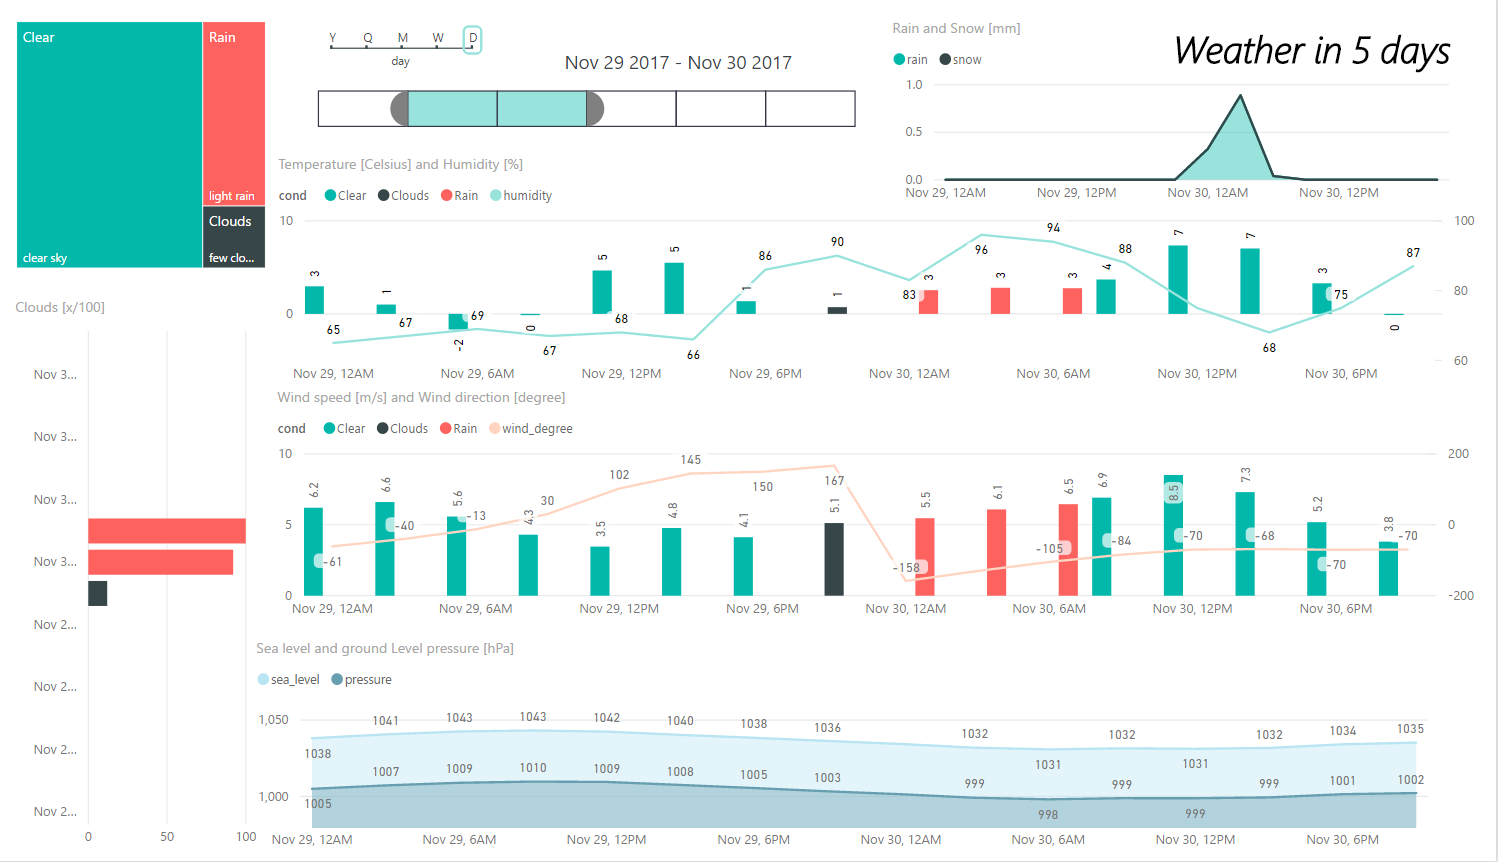

What the dashboard file says about the page in this screenshot:
{"tool":"powerbi","page":{"name":"weather forcast","canvas":[1280,720],"ordinal":1},"visuals":[{"type":"lineClusteredColumnComboChart","fields":{"Y2":["Sum(weatherData.humidity)"],"Y":["Sum(weatherData.temperature)"],"Series":["weatherData.cond"],"Category":["weatherData.client_time"]},"box":[236.8,117.6,1030.3,204.8],"z":0},{"type":"treemap","fields":{"Group":["weatherData.cond"],"Details":["weatherData.condition"],"Values":["CountNonNull(weatherData.condition)"]},"box":[13.7,0,222.9,219.4],"z":6},{"type":"stackedAreaChart","fields":{"Category":["weatherData.client_time"],"Y":["Sum(weatherData.rain)","Sum(weatherData.snow)"]},"box":[760.8,1.6,509.8,166.3],"z":8},{"type":"textbox","box":[1000.1,0,279.9,59.4],"z":9},{"type":"lineClusteredColumnComboChart","fields":{"Y":["Sum(weatherData.wind_speed)"],"Y2":["Sum(weatherData.wind_degree)"],"Series":["weatherData.cond"],"Category":["weatherData.client_time"]},"box":[236,316.4,1031.2,206.6],"z":2000},{"type":"areaChart","fields":{"Category":["weatherData.client_time"],"Y":["Sum(weatherData.sea_level)","Sum(weatherData.pressure)"]},"box":[218.7,530.7,1030.3,189.3],"z":3000},{"type":"Timeline1447991079100","fields":{"Time":["weatherData.client_time"]},"box":[255.7,0,512.9,120.8],"z":4000},{"type":"barChart","fields":{"Y":["Sum(weatherData.clouds)"],"Series":["weatherData.cond"],"Category":["weatherData.client_time"]},"box":[12.8,239.6,215.7,477.5],"z":5000}]}

Visuals, with their boxes in screenshot pixels (x1, y1, x2, y2), scaled from the page's 1280x720 canvas onto the 1498x862 screenshot:
lineClusteredColumnComboChart - Sum(weatherData.humidity) x Sum(weatherData.temperature): bbox=[277, 141, 1483, 386]
treemap - weatherData.cond x weatherData.condition: bbox=[16, 0, 277, 263]
stackedAreaChart - weatherData.client_time x Sum(weatherData.rain): bbox=[890, 2, 1487, 201]
textbox: bbox=[1170, 0, 1497, 71]
lineClusteredColumnComboChart - Sum(weatherData.wind_speed) x Sum(weatherData.wind_degree): bbox=[276, 379, 1483, 626]
areaChart - weatherData.client_time x Sum(weatherData.sea_level): bbox=[256, 635, 1462, 861]
Timeline1447991079100 - weatherData.client_time: bbox=[299, 0, 900, 145]
barChart - Sum(weatherData.clouds) x weatherData.cond: bbox=[15, 287, 267, 859]
